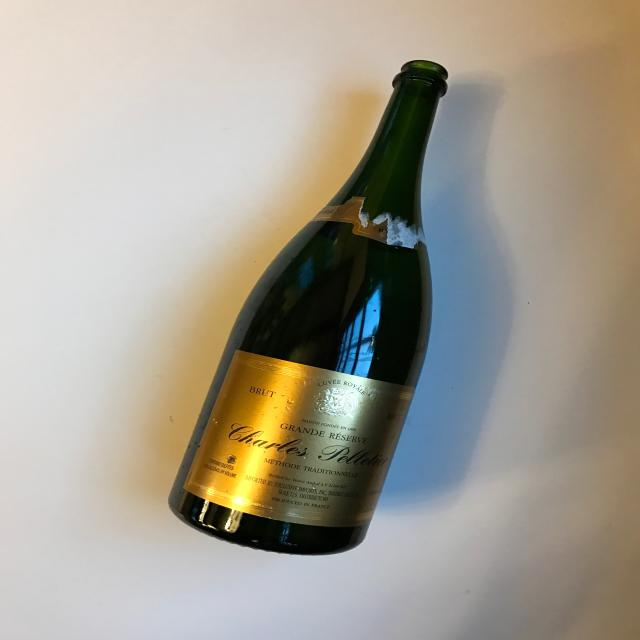glass: (166, 39, 498, 577)
